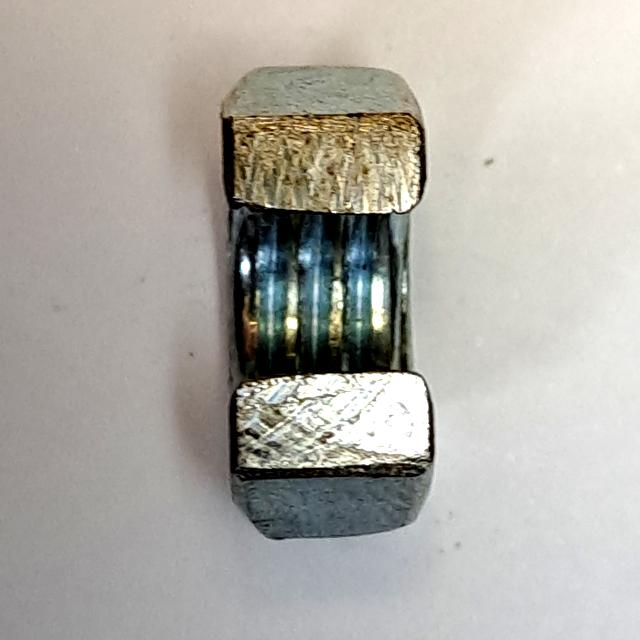Side-Fracture: (200, 55, 446, 551)
